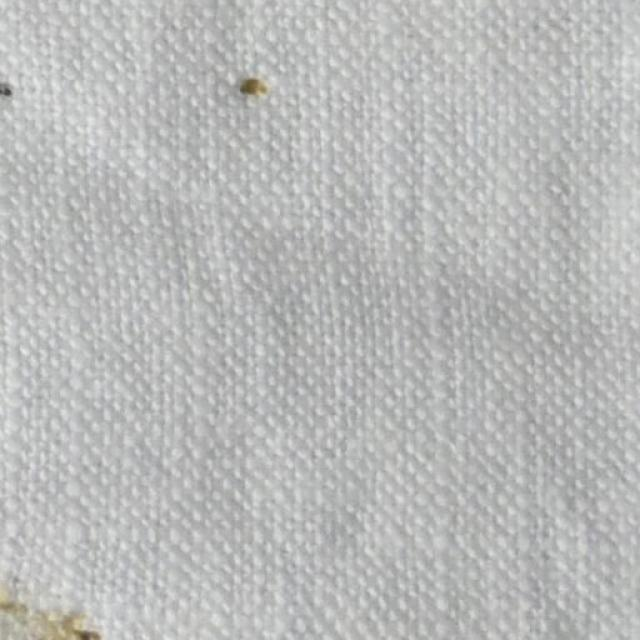Stain: (0, 572, 114, 639), (225, 75, 269, 106), (0, 82, 16, 114)
